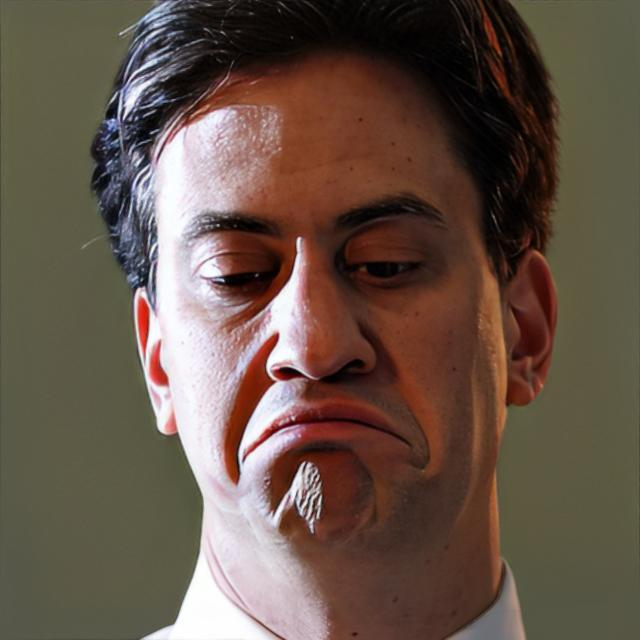disgust: (154, 44, 508, 546)
